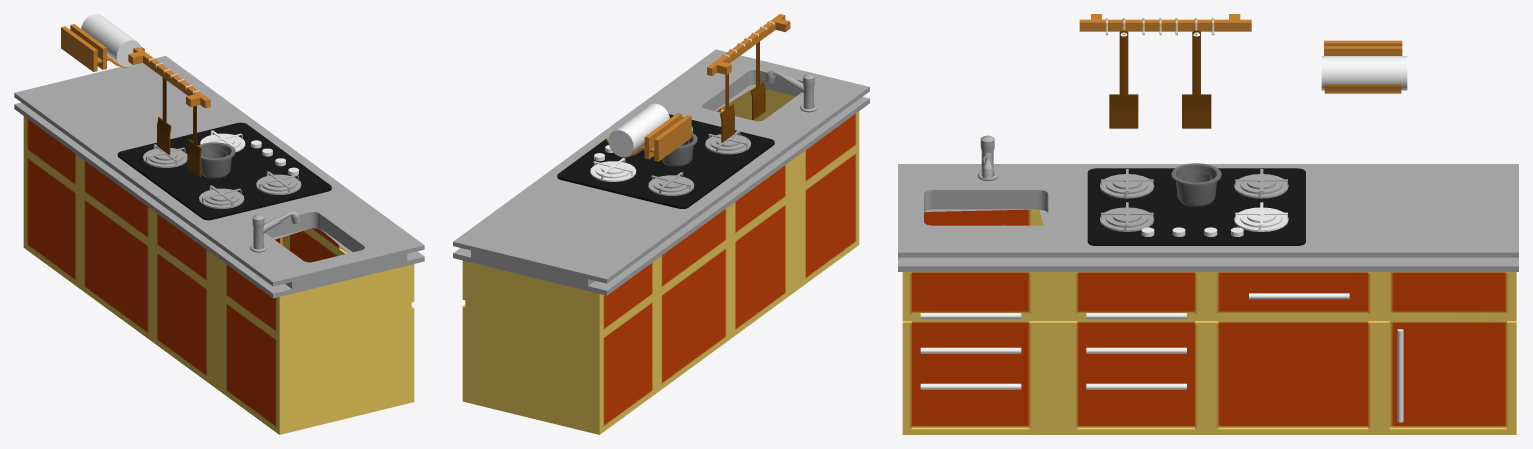
Rendered from chufang.fbx.
3 renders of one model, left to right at view 1: azimuth 30°, elevation 25°; view 2: azimuth 150°, elevation 25°; view 3: azimuth 270°, elevation 25°, orthographic. The views are drawn at different scales.
Visible parts, largest first — view 1: polySurface146; view 2: polySurface146; view 3: polySurface146.
Part boxes in pixels (box(x1,y1,x2,y2)): polySurface146: box(14, 14, 424, 434); polySurface146: box(453, 14, 869, 434); polySurface146: box(898, 14, 1518, 434).
Size of the model in its own units: 10.55 by 18.46 by 30.79.
